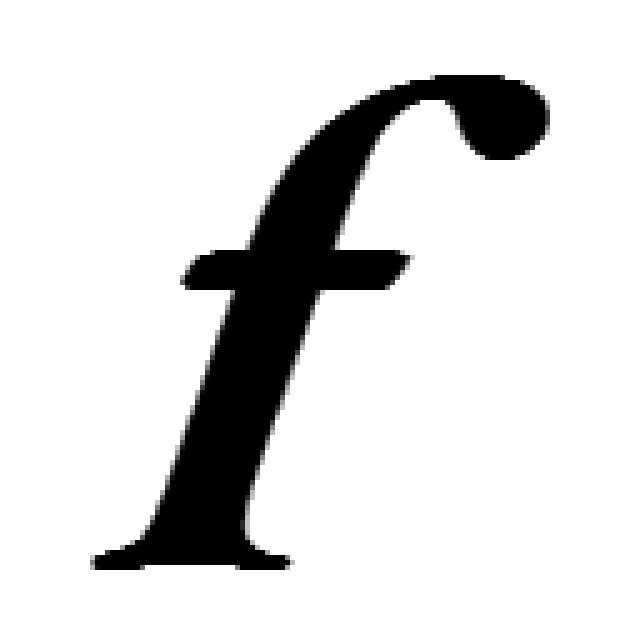F: (90, 75, 550, 575)
